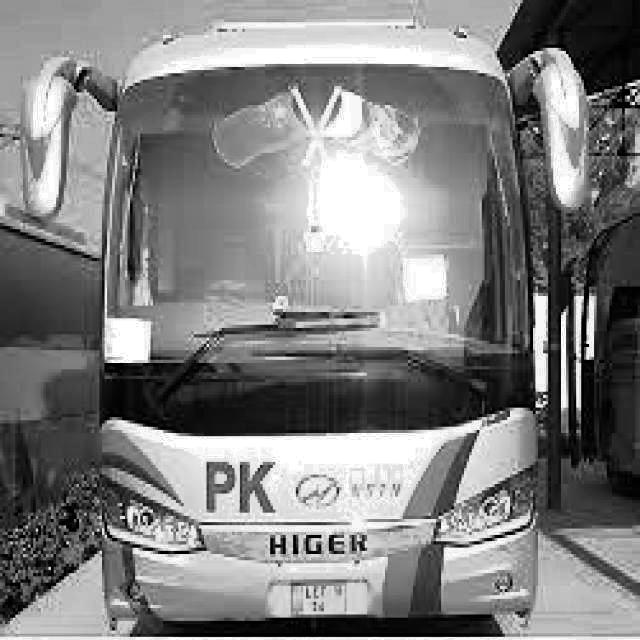Bus: (18, 3, 622, 640)
